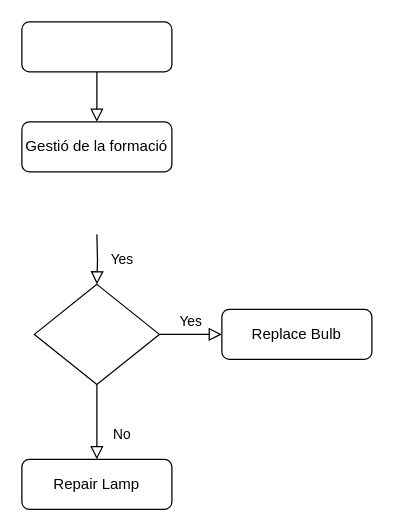
The diagram is 394 pixels wide and 531 high, and some of its shapes have lost their labels. Each missing label, with the centre of its shape:
Bulb burned out?: the point at 96,333
Diseny de la formació: the point at 96,46
